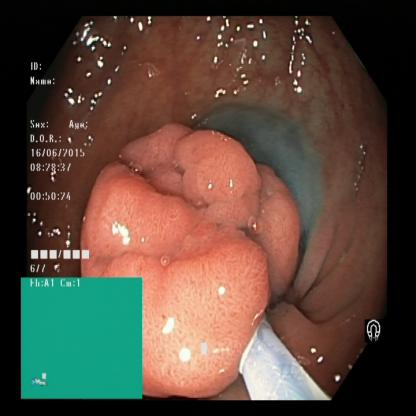Labels: (21, 278, 146, 401), (358, 316, 390, 349)
Polyps: (103, 134, 274, 380), (30, 50, 100, 276)
